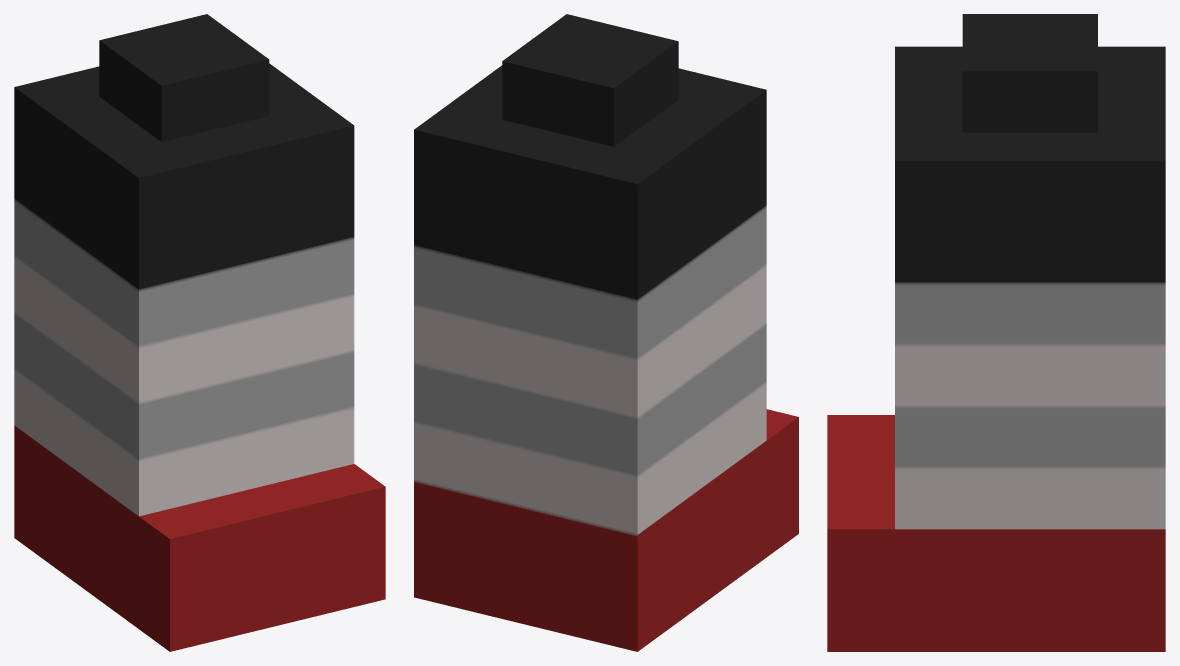
File: Knee047.fbx
3 renders of one model, left to right at view 1: azimuth 30°, elevation 25°; view 2: azimuth 150°, elevation 25°; view 3: azimuth 270°, elevation 25°, orthographic. The views are drawn at different scales.
Parts seen in each view (by area): view 1: Knee047; view 2: Knee047; view 3: Knee047.
Part boxes in pixels (x1,y1,x2,y2): Knee047: (14, 14, 385, 651); Knee047: (414, 14, 798, 651); Knee047: (827, 14, 1165, 651).
Size of the model in its own units: 4 by 9 by 5.
